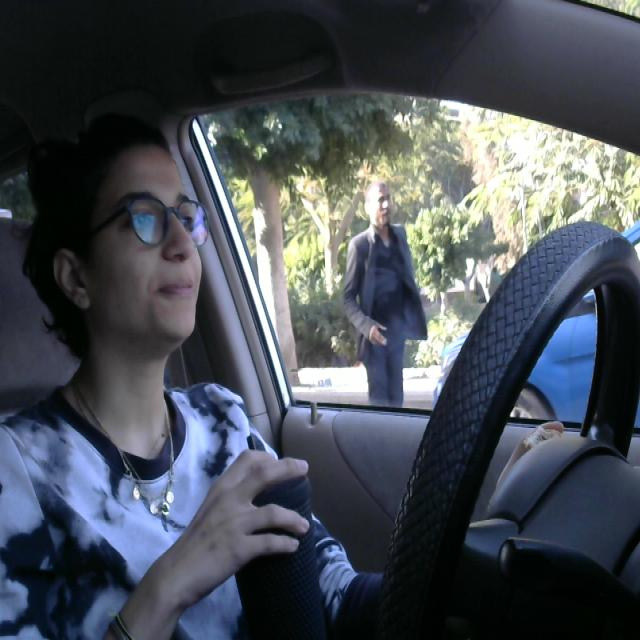drinking: (216, 431, 327, 640)
